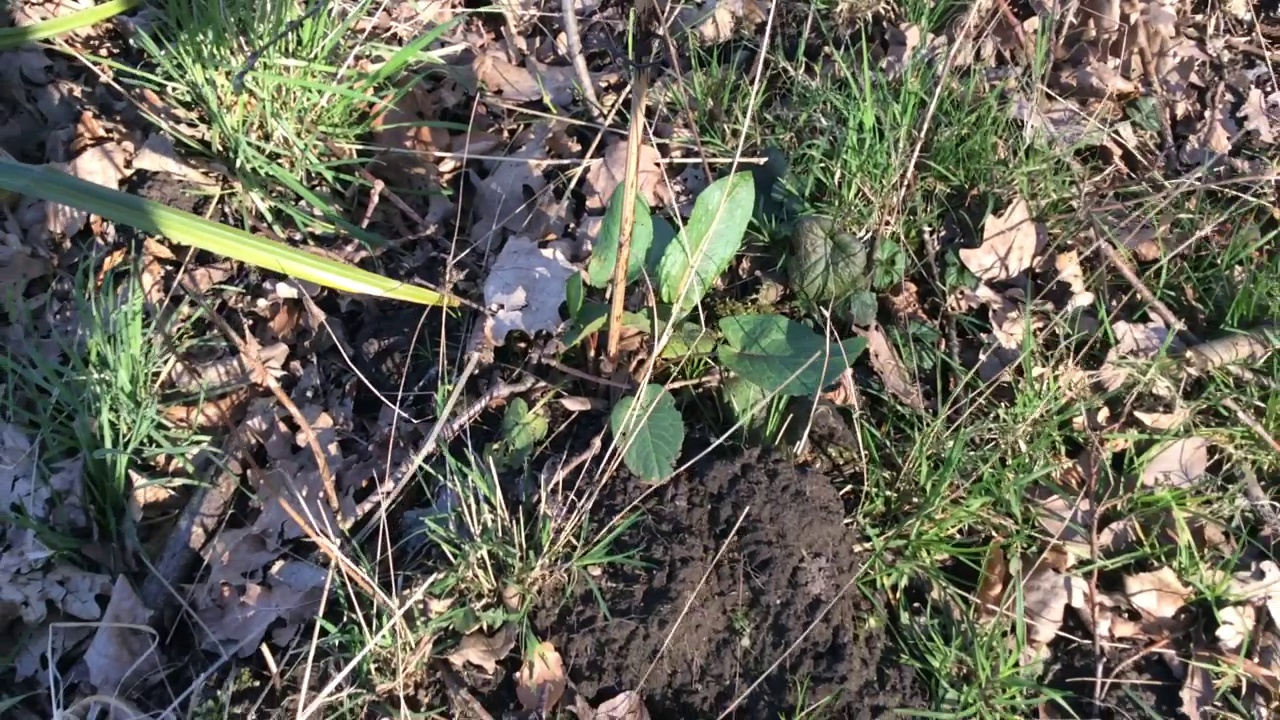rumex: (489, 171, 866, 486)
